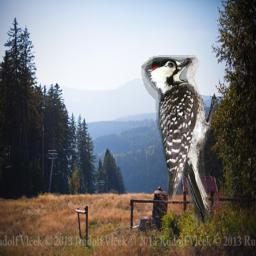Woodpecker: (139, 55, 221, 228)
